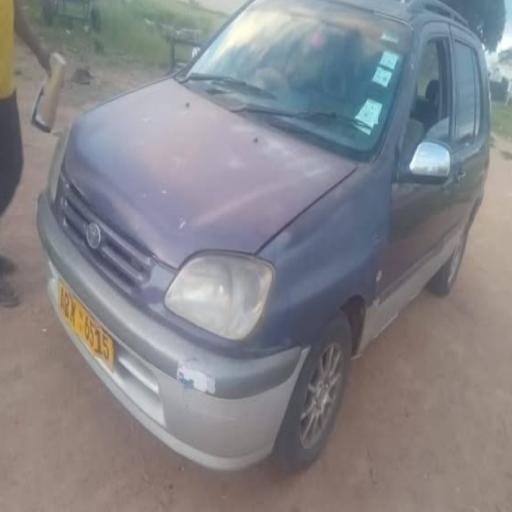number-plates: (54, 271, 116, 368)
